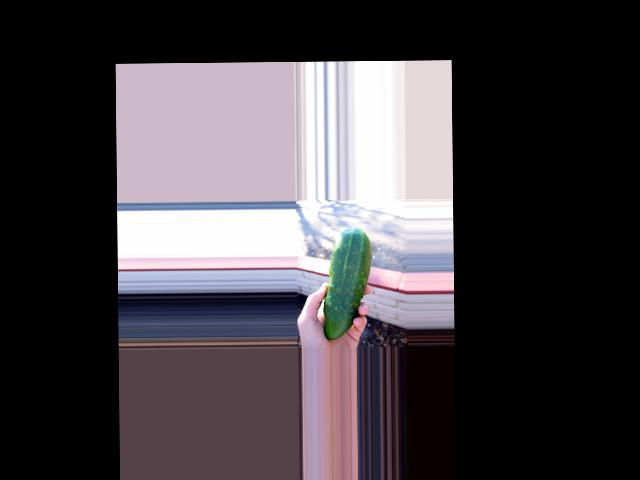cucumber: (323, 228, 373, 339)
